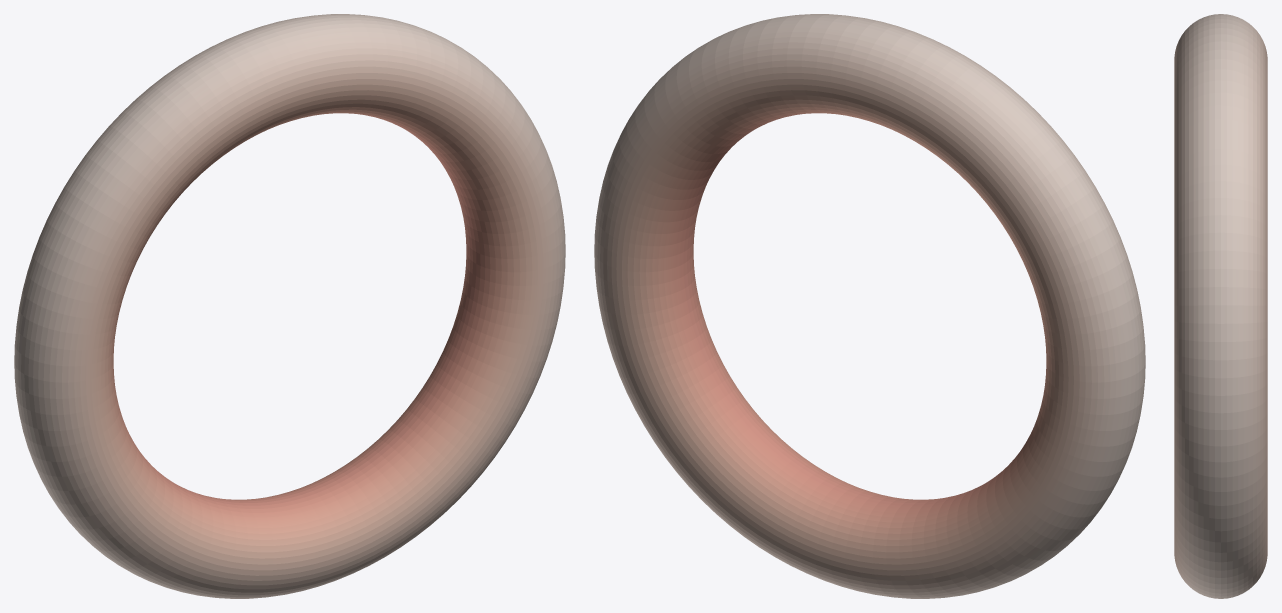
The picture shows the model from 3 angles, left to right: view 1: azimuth 30°, elevation 25°; view 2: azimuth 150°, elevation 25°; view 3: azimuth 270°, elevation 25°; orthographic projection. The views are drawn at different scales.
Visible parts, largest first — view 1: world; view 2: world; view 3: world.
Part boxes in pixels (box(x1,y1,x2,y2)): world: box(14, 14, 565, 598); world: box(594, 14, 1145, 598); world: box(1174, 14, 1267, 598).
Bounding box in the file's own units: 32.53 × 32.53 × 5.19.
